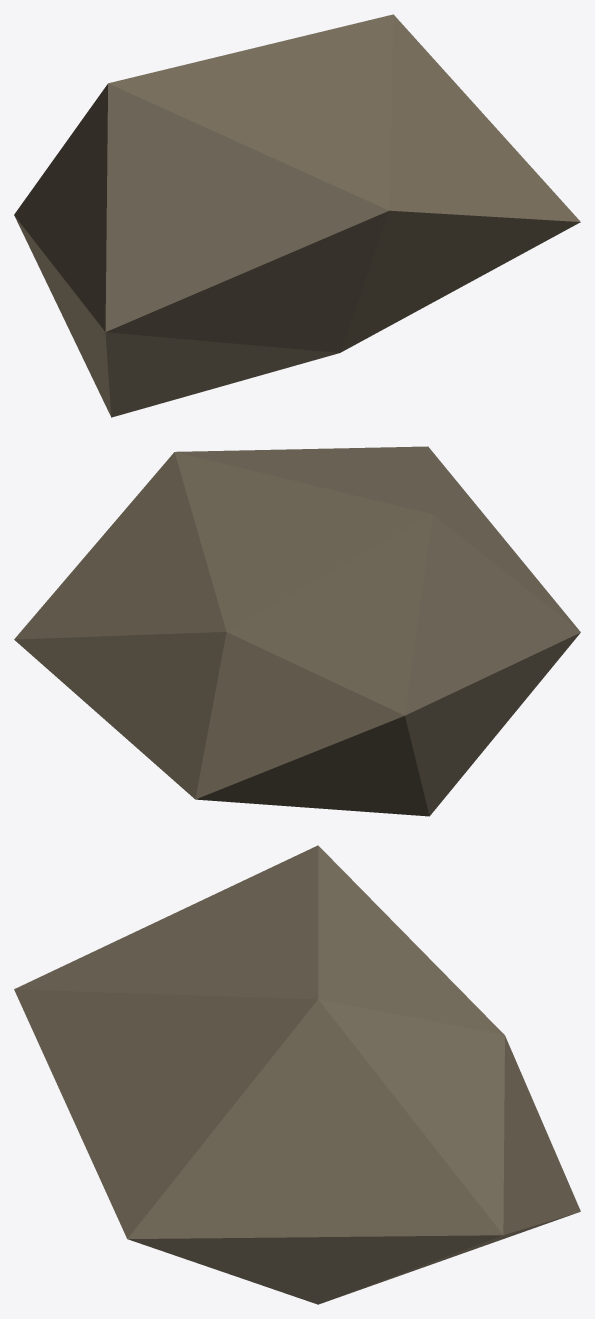
File: rock_large.glb
The picture shows the model from 3 angles, top to bottom: view 1: azimuth 30°, elevation 25°; view 2: azimuth 150°, elevation 25°; view 3: azimuth 270°, elevation 25°; orthographic projection. The views are drawn at different scales.
Parts seen in each view (by area): view 1: model; view 2: model; view 3: model.
Boxes of the visible parts, bbox=[...] form: model: bbox=[14, 14, 580, 417]; model: bbox=[14, 446, 580, 816]; model: bbox=[14, 845, 580, 1304].
Bounding box in the file's own units: 6.12 × 4.18 × 5.82.
